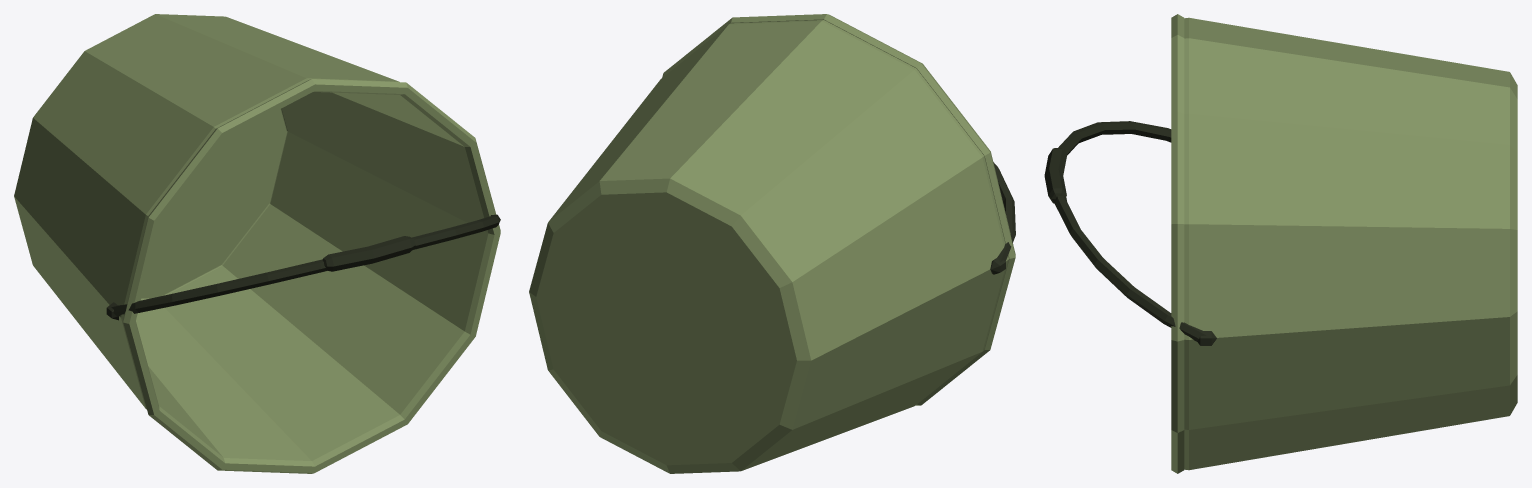
The model's file is bucket.glb.
3 views of the same model, side by side, from view 1: azimuth 30°, elevation 25°; view 2: azimuth 150°, elevation 25°; view 3: azimuth 270°, elevation 25° (orthographic). The views are drawn at different scales.
Parts seen in each view (by area): view 1: bucket; view 2: bucket; view 3: bucket.
Boxes of the visible parts, x1,y1,x2,y2 form: bucket: (14,14,500,473); bucket: (529,14,1015,473); bucket: (1044,14,1517,473).
Size of the model in its own units: 0.2472 by 0.246 by 0.252.
